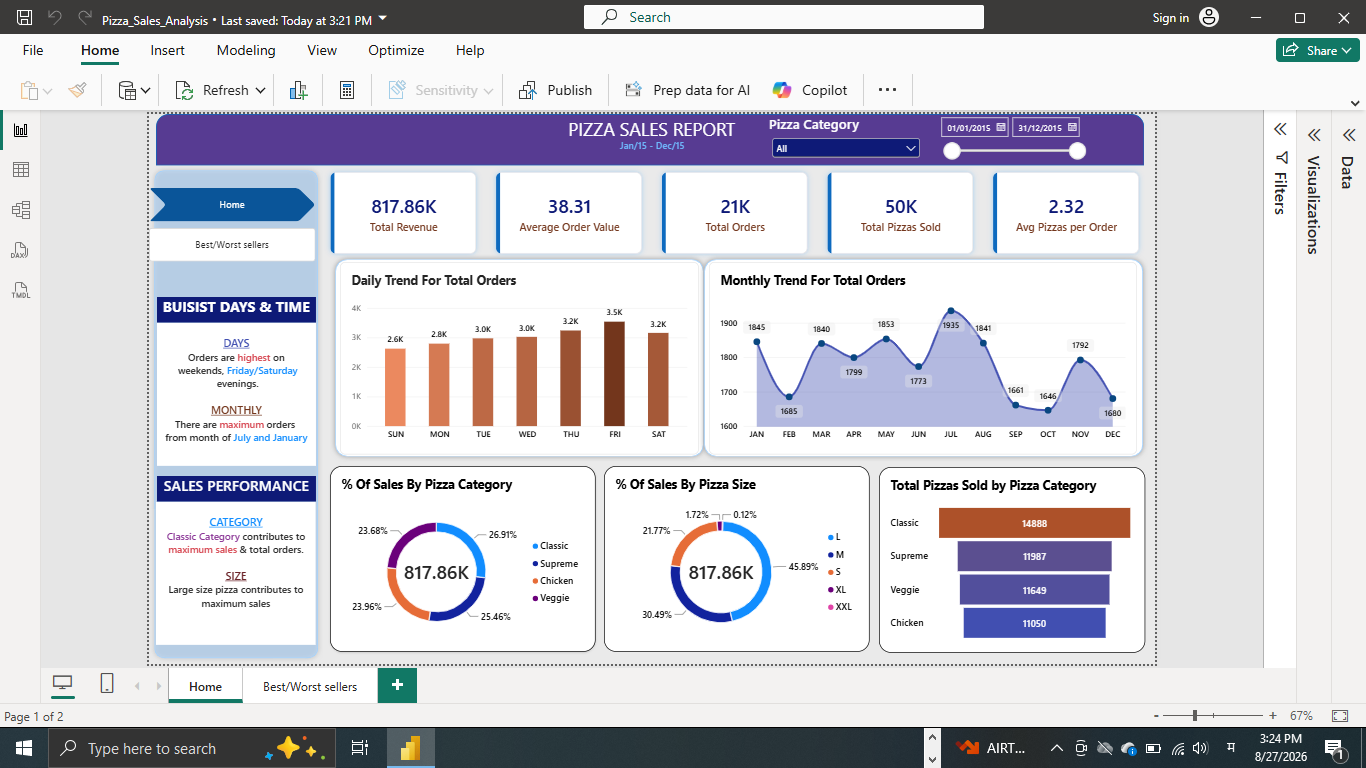

The page's visual inventory and layout, read from the dashboard file:
{"tool":"powerbi","page":{"name":"Home","canvas":[1500,820],"ordinal":0},"visuals":[{"type":"cardVisual","fields":{"Data":["pizza_sales.Total Revenue","pizza_sales.Average Order Value","pizza_sales.Total Orders","pizza_sales.Total Pizzas Sold","pizza_sales.Avg Pizzas per Order"]},"box":[260,76.7,1230,143],"z":0},{"type":"shape","box":[10,0,1473.3,76.7],"z":1000},{"type":"shape","box":[270,208.3,565,310],"z":2000},{"type":"columnChart","title":"Daily Trend For Total Orders ","fields":{"Category":["pizza_sales.Order Day"],"Y":["pizza_sales.Total Orders"]},"box":[285,220,535,286.7],"z":3000},{"type":"shape","box":[820,208.3,670,310],"z":4000},{"type":"areaChart","title":"Monthly Trend For Total Orders","fields":{"Category":["pizza_sales.Order Month"],"Y":["pizza_sales.Total Orders"]},"box":[835,220,638.3,286.7],"z":5000},{"type":"donutChart","title":"% Of Sales By Pizza Category","fields":{"Category":["pizza_sales.pizza_category"],"Y":["pizza_sales.Total Revenue"]},"box":[270,525,396,276.7],"z":6000},{"type":"donutChart","title":"% Of Sales By Pizza Size","fields":{"Y":["pizza_sales.Total Revenue"],"Category":["pizza_sales.pizza_size"]},"box":[678.3,525,396,276.7],"z":7000},{"type":"funnel","title":"Total Pizzas Sold by Pizza Category","fields":{"Category":["pizza_sales.pizza_category"],"Y":["pizza_sales.Total Pizzas Sold"]},"box":[1088,526,396.7,276.7],"z":8000},{"type":"shape","box":[0,76.7,260,743.3],"z":9000},{"type":"textbox","box":[588,4,324,50],"z":10000},{"type":"textbox","box":[1060,323.3,305,40],"z":11000},{"type":"textbox","box":[658,38,186,24],"z":12000},{"type":"textbox","box":[11.7,311.7,236.7,213.3],"z":13000},{"type":"textbox","box":[11.7,273.3,236.7,38.3],"z":14000},{"type":"textbox","box":[11.7,540,236.7,38],"z":15000},{"type":"textbox","box":[10,578.3,238.3,213.3],"z":16000},{"type":"slicer","title":"Pizza Category","fields":{"Values":["pizza_sales.pizza_category"]},"box":[925,0,230,76.7],"z":17000},{"type":"slicer","title":"Pizza Category","fields":{"Values":["pizza_sales.order_date"]},"box":[1173.3,0,226.7,76.7],"z":18000},{"type":"pageNavigator","box":[0,110,248,50],"z":19000},{"type":"pageNavigator","box":[0,170,248,50],"z":20000}]}

Visuals, with their boxes on the page's 1500x820 design canvas (x1, y1, x2, y2). These are canvas units, not pixel positions in the 1366x768 screenshot, which may show the page scaled, cropped or inside an application window:
cardVisual - pizza_sales.Total Revenue x pizza_sales.Average Order Value: {"x1": 260, "y1": 77, "x2": 1490, "y2": 220}
shape: {"x1": 10, "y1": 0, "x2": 1483, "y2": 77}
shape: {"x1": 270, "y1": 208, "x2": 835, "y2": 518}
"Daily Trend For Total Orders " columnChart: {"x1": 285, "y1": 220, "x2": 820, "y2": 507}
shape: {"x1": 820, "y1": 208, "x2": 1490, "y2": 518}
"Monthly Trend For Total Orders" areaChart: {"x1": 835, "y1": 220, "x2": 1473, "y2": 507}
"% Of Sales By Pizza Category" donutChart: {"x1": 270, "y1": 525, "x2": 666, "y2": 802}
"% Of Sales By Pizza Size" donutChart: {"x1": 678, "y1": 525, "x2": 1074, "y2": 802}
"Total Pizzas Sold by Pizza Category" funnel: {"x1": 1088, "y1": 526, "x2": 1485, "y2": 803}
shape: {"x1": 0, "y1": 77, "x2": 260, "y2": 820}
textbox: {"x1": 588, "y1": 4, "x2": 912, "y2": 54}
textbox: {"x1": 1060, "y1": 323, "x2": 1365, "y2": 363}
textbox: {"x1": 658, "y1": 38, "x2": 844, "y2": 62}
textbox: {"x1": 12, "y1": 312, "x2": 248, "y2": 525}
textbox: {"x1": 12, "y1": 273, "x2": 248, "y2": 312}
textbox: {"x1": 12, "y1": 540, "x2": 248, "y2": 578}
textbox: {"x1": 10, "y1": 578, "x2": 248, "y2": 792}
"Pizza Category" slicer: {"x1": 925, "y1": 0, "x2": 1155, "y2": 77}
"Pizza Category" slicer: {"x1": 1173, "y1": 0, "x2": 1400, "y2": 77}
pageNavigator: {"x1": 0, "y1": 110, "x2": 248, "y2": 160}
pageNavigator: {"x1": 0, "y1": 170, "x2": 248, "y2": 220}
